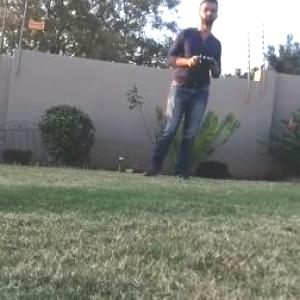follow: (136, 0, 225, 185)
